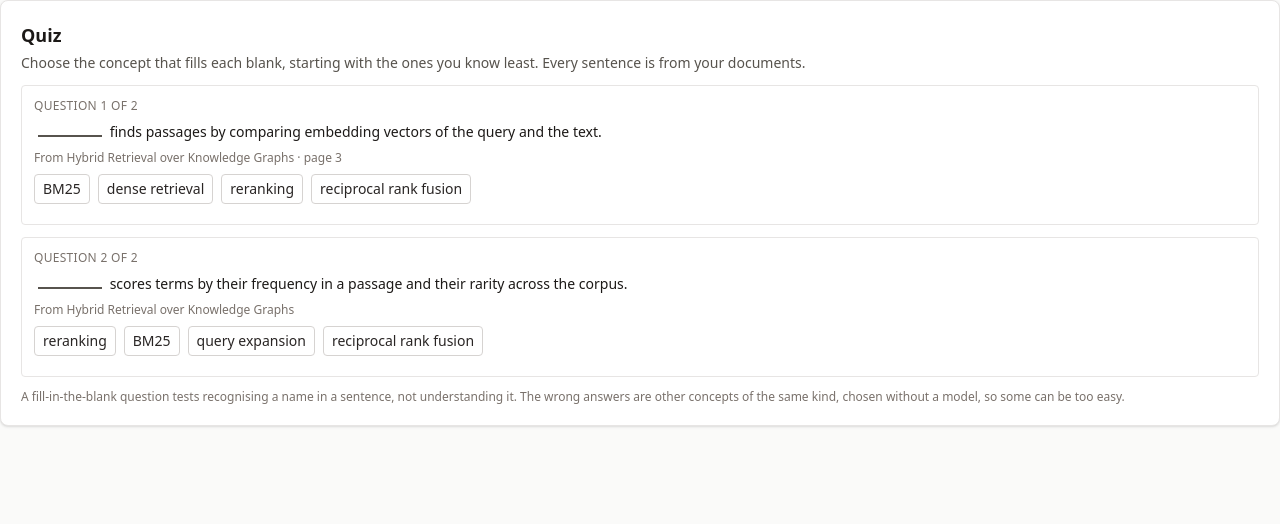
Scenario: QuizCard: answering › a wrong answer says which one was right and which was chosen, in words and not by colour alone
This screenshot has width=1280, height=524.
Click the button "BM25" below "· page 3".
click(62, 189)  # box [34,174,90,204]
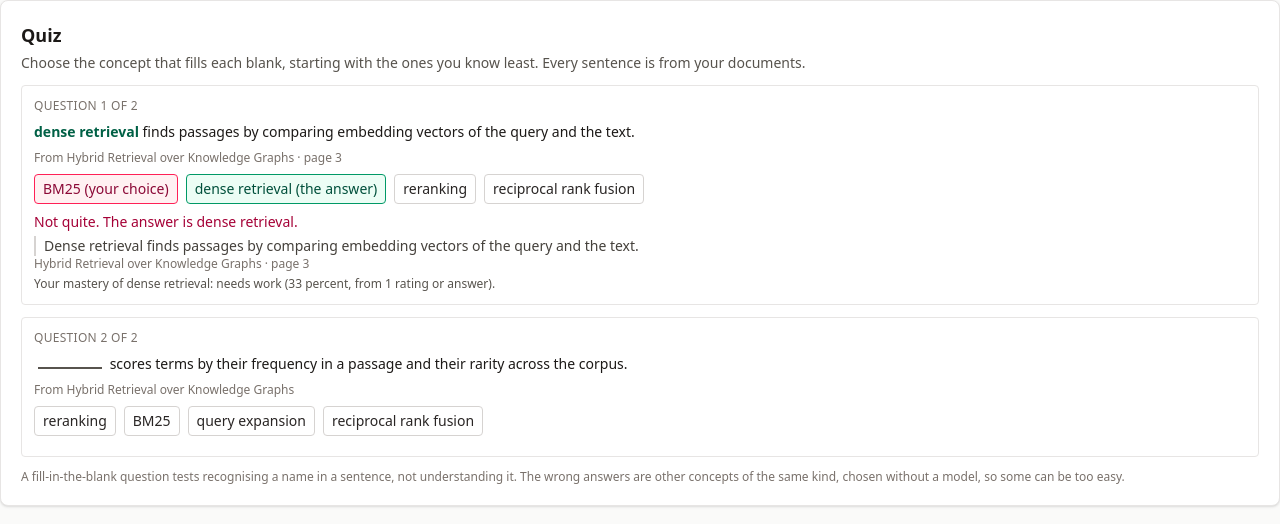
expect the text "Not quite. The answer is dense retrieval." is shown: met, box [34,212,298,231]
expect the button "BM25 (your choice)" is shown: met, box [34,174,178,204]
expect the button "dense retrieval (the answer)" is shown: met, box [186,174,386,204]
